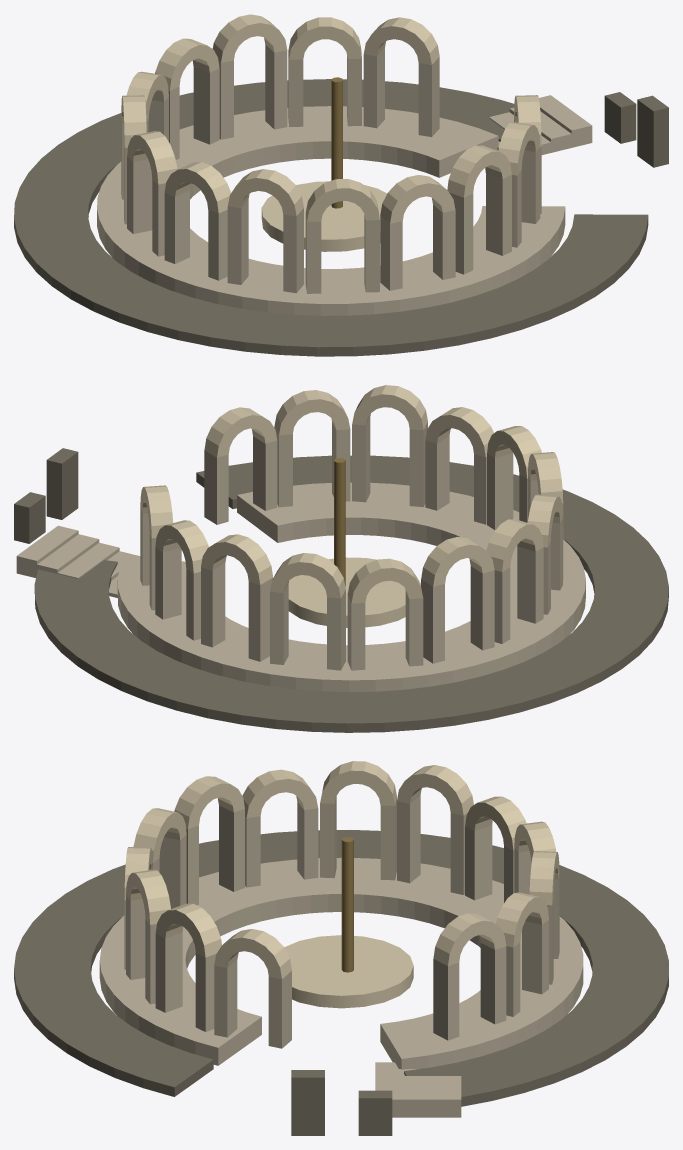
The model's file is ring-observatory.glb.
3 renders of one model, top to bottom at view 1: azimuth 30°, elevation 25°; view 2: azimuth 150°, elevation 25°; view 3: azimuth 270°, elevation 25°, orthographic. The views are drawn at different scales.
Parts seen in each view (by area): view 1: stone-surfaces, dark-surfaces, pale-surfaces, bronze-surfaces; view 2: stone-surfaces, dark-surfaces, pale-surfaces, bronze-surfaces; view 3: stone-surfaces, dark-surfaces, pale-surfaces, bronze-surfaces.
Boxes of the visible parts, bbox=[...] form: stone-surfaces: bbox=[97, 44, 592, 315]; dark-surfaces: bbox=[14, 79, 668, 356]; pale-surfaces: bbox=[121, 14, 541, 251]; bronze-surfaces: bbox=[331, 77, 342, 208]; stone-surfaces: bbox=[16, 417, 585, 692]; dark-surfaces: bbox=[14, 448, 668, 732]; pale-surfaces: bbox=[140, 385, 563, 627]; bronze-surfaces: bbox=[334, 458, 345, 585]; stone-surfaces: bbox=[99, 795, 583, 1117]; dark-surfaces: bbox=[14, 830, 668, 1135]; pale-surfaces: bbox=[124, 761, 559, 1008]; bronze-surfaces: bbox=[341, 837, 353, 972].
Bounding box in the file's own units: 22.9 × 5.15 × 21.38.
